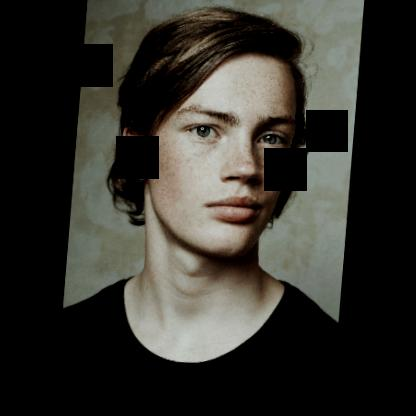Male: (108, 44, 304, 264)
